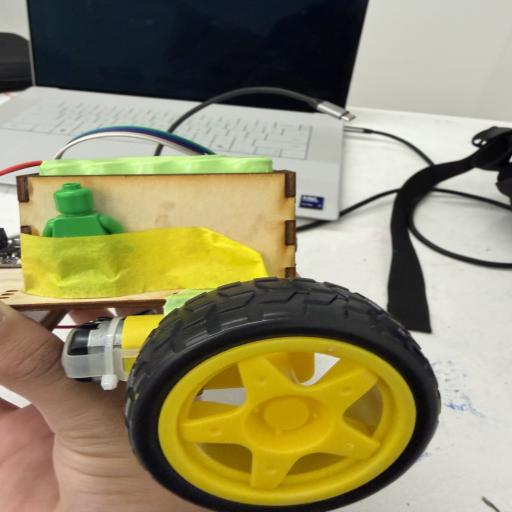Green-Lego: (42, 182, 124, 238)
